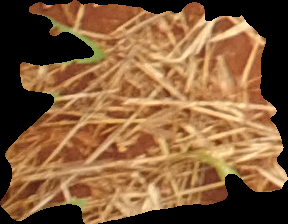soil: (2, 1, 287, 223)
